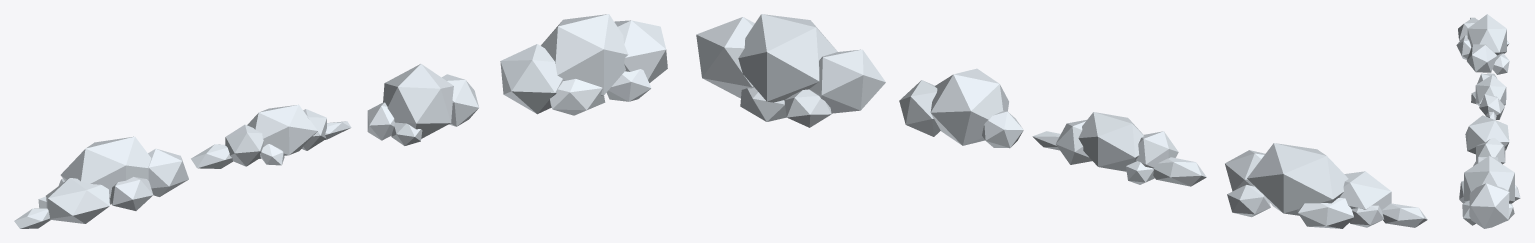
Rendered from clouds.fbx.
3 renders of one model, left to right at view 1: azimuth 30°, elevation 25°; view 2: azimuth 150°, elevation 25°; view 3: azimuth 270°, elevation 25°, orthographic. The views are drawn at different scales.
Visible parts, largest first — view 1: SM_cloud_04_SH1, SM_cloud_01_SH, SM_cloud_03_SH, SM_cloud_02_SH; view 2: SM_cloud_04_SH1, SM_cloud_01_SH, SM_cloud_02_SH, SM_cloud_03_SH; view 3: SM_cloud_04_SH1, SM_cloud_01_SH, SM_cloud_03_SH, SM_cloud_02_SH.
Part boxes in pixels (x1,y1,x2,y2): SM_cloud_04_SH1: (500,14,667,115); SM_cloud_01_SH: (14,136,188,228); SM_cloud_03_SH: (367,64,478,145); SM_cloud_02_SH: (191,104,351,168); SM_cloud_04_SH1: (696,14,885,127); SM_cloud_01_SH: (1225,143,1427,228); SM_cloud_02_SH: (1032,112,1206,186); SM_cloud_03_SH: (899,68,1023,148); SM_cloud_04_SH1: (1459,156,1520,228); SM_cloud_01_SH: (1456,14,1509,74); SM_cloud_03_SH: (1465,115,1509,164); SM_cloud_02_SH: (1471,73,1506,120).
Bounding box in the file's own units: 3245 × 434 × 401.
